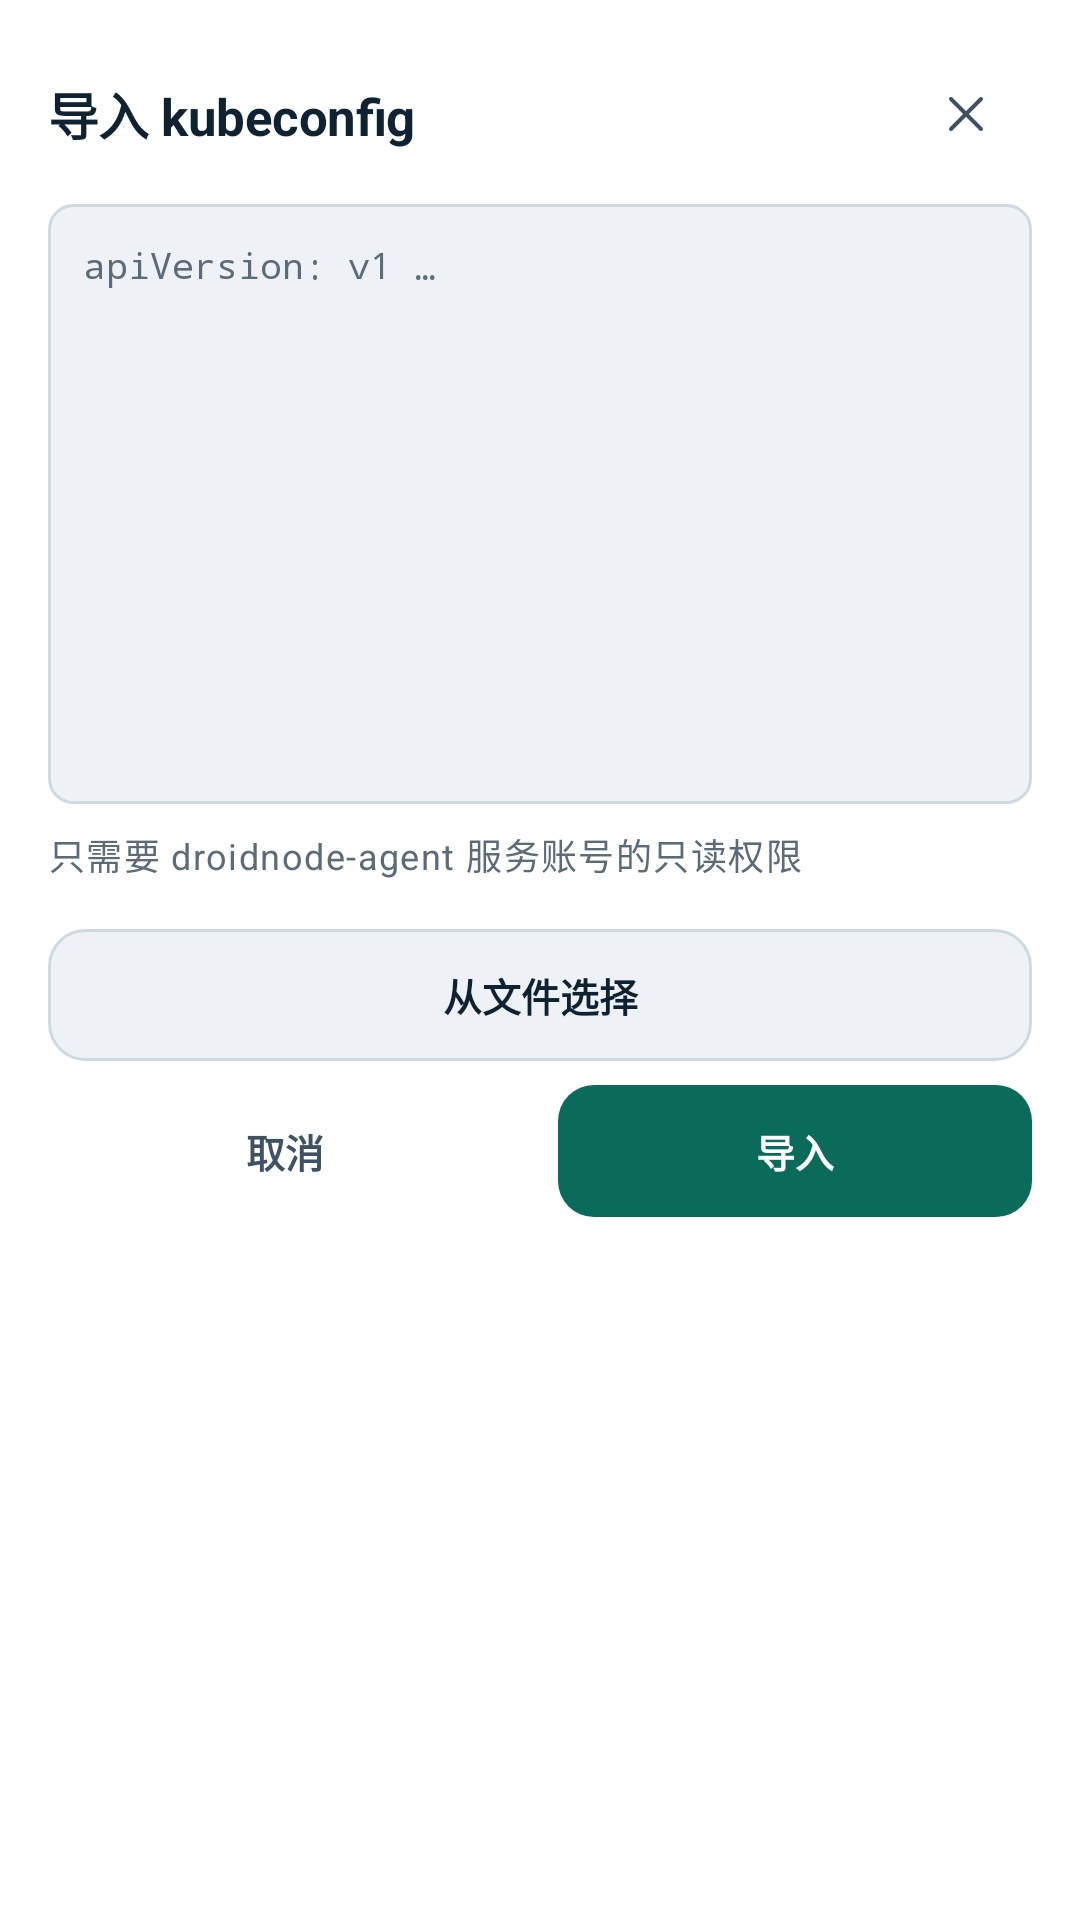

Where to tap for icons on this 1080*1920 app screen, as (x=x, y=y):
关闭: (x=966, y=114)
